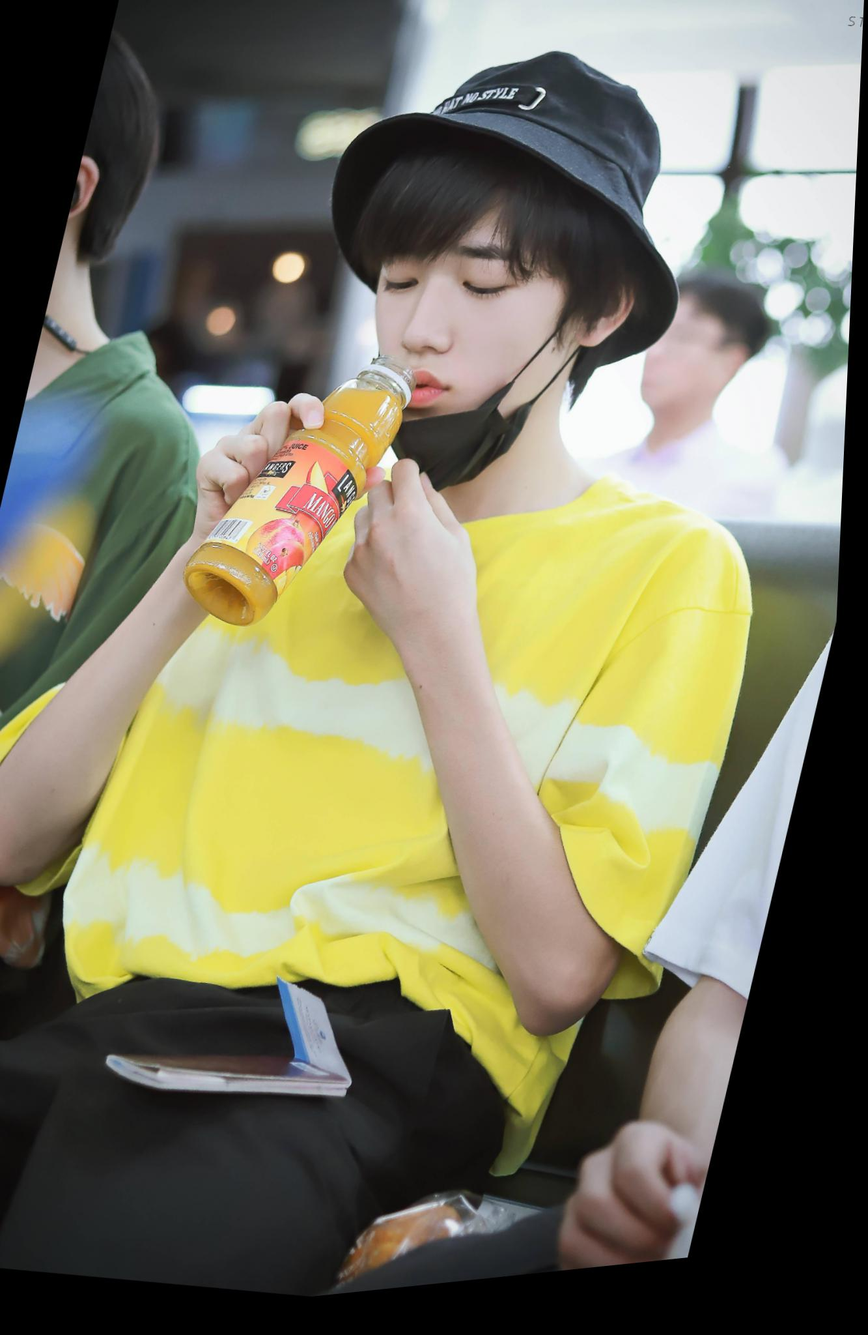WRONG: (333, 199, 600, 531)
